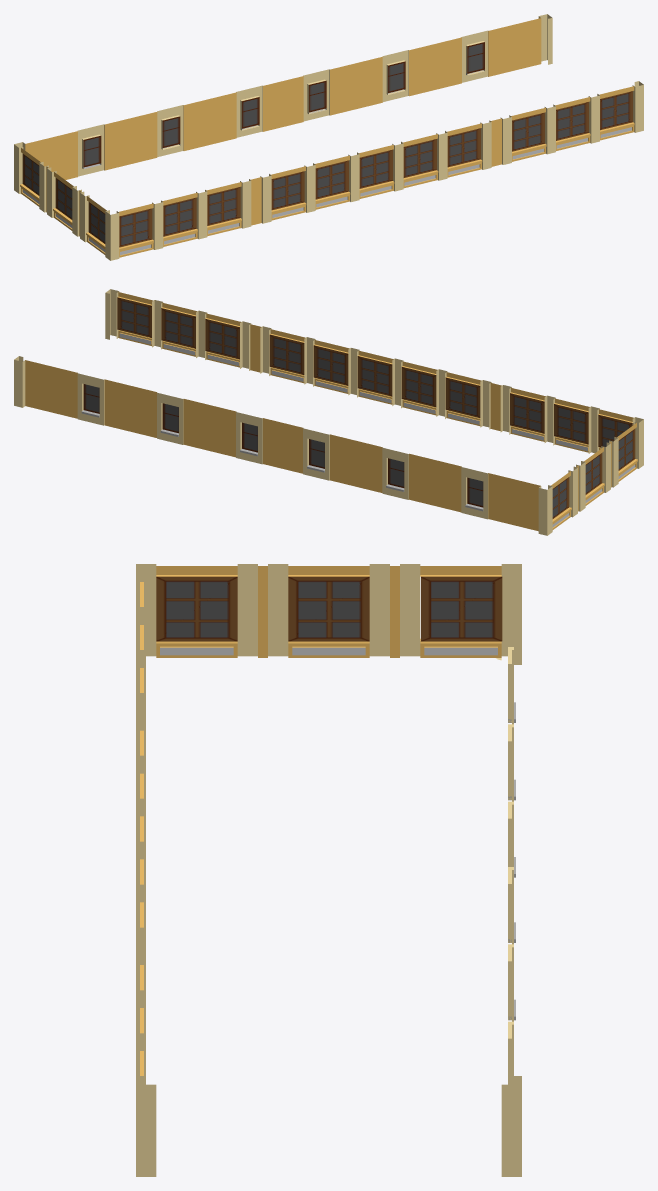
The model's file is BuildingSmall2_2.fbx.
The picture shows the model from 3 angles, top to bottom: view 1: azimuth 30°, elevation 25°; view 2: azimuth 150°, elevation 25°; view 3: azimuth 270°, elevation 25°; orthographic projection. The views are drawn at different scales.
Parts seen in each view (by area): view 1: BuildingSmall2_2; view 2: BuildingSmall2_2; view 3: BuildingSmall2_2.
Part boxes in pixels (box(x1,y1,x2,y2)): BuildingSmall2_2: box(14, 14, 643, 260); BuildingSmall2_2: box(14, 289, 643, 535); BuildingSmall2_2: box(136, 564, 521, 1176).
Bounding box in the file's own units: 6060 × 500 × 1900.
